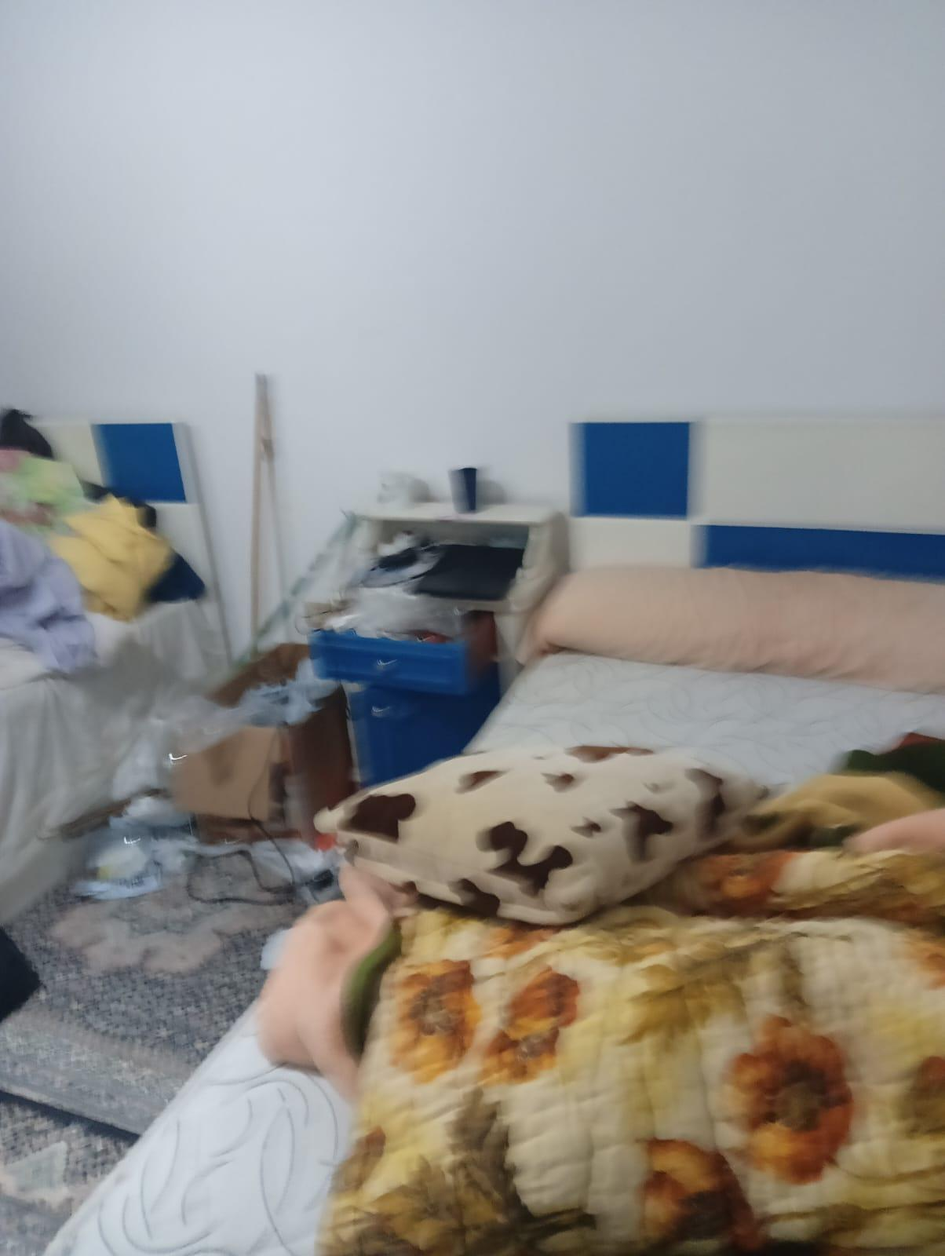cup: (377, 472, 426, 508), (450, 467, 480, 513)
